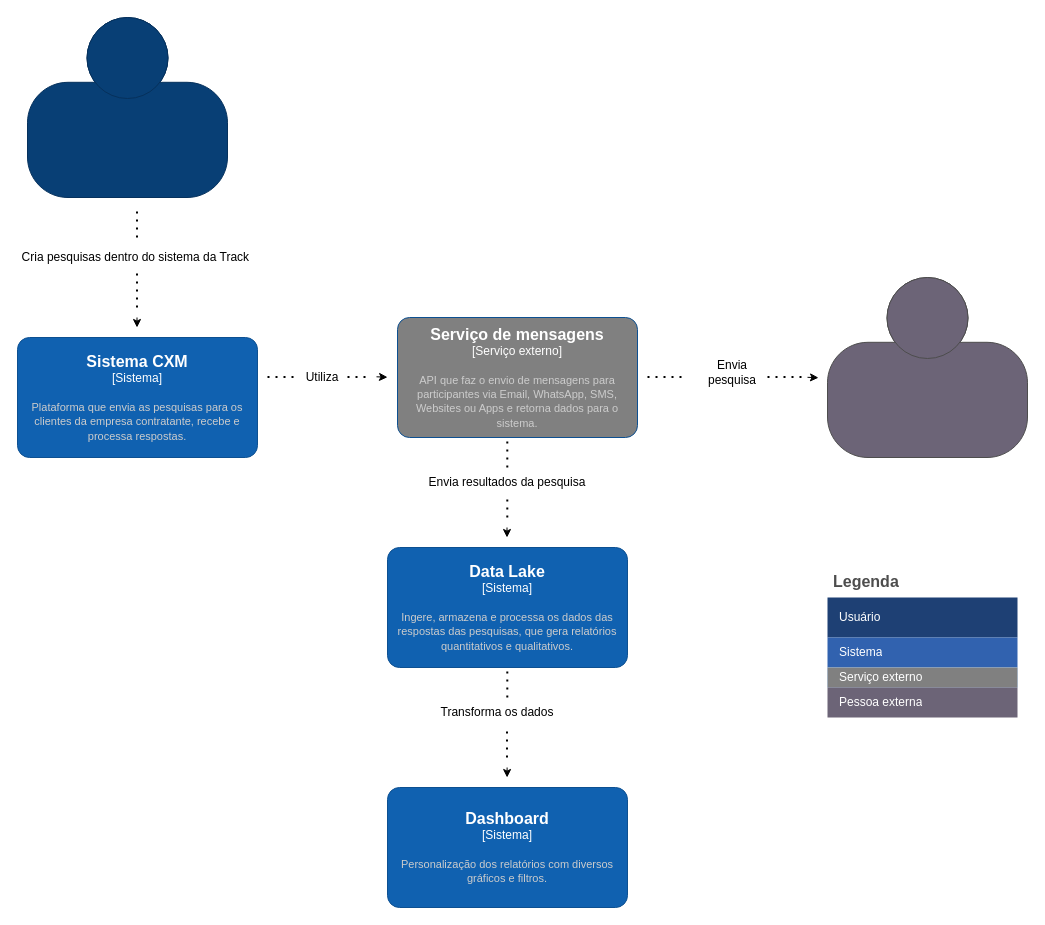
This 1045x925 diagram has some shape labels left out. The shapes that lost their labels are listed below. From the top down, each one's centre as x and y in pixels, then its label:
the point at 127,107: Cliente [Usuário] Empresa que cria as pesquisas no sistema.
the point at 927,367: Participantes [Pessoa externa] Pessoa que responde as pesquisas
